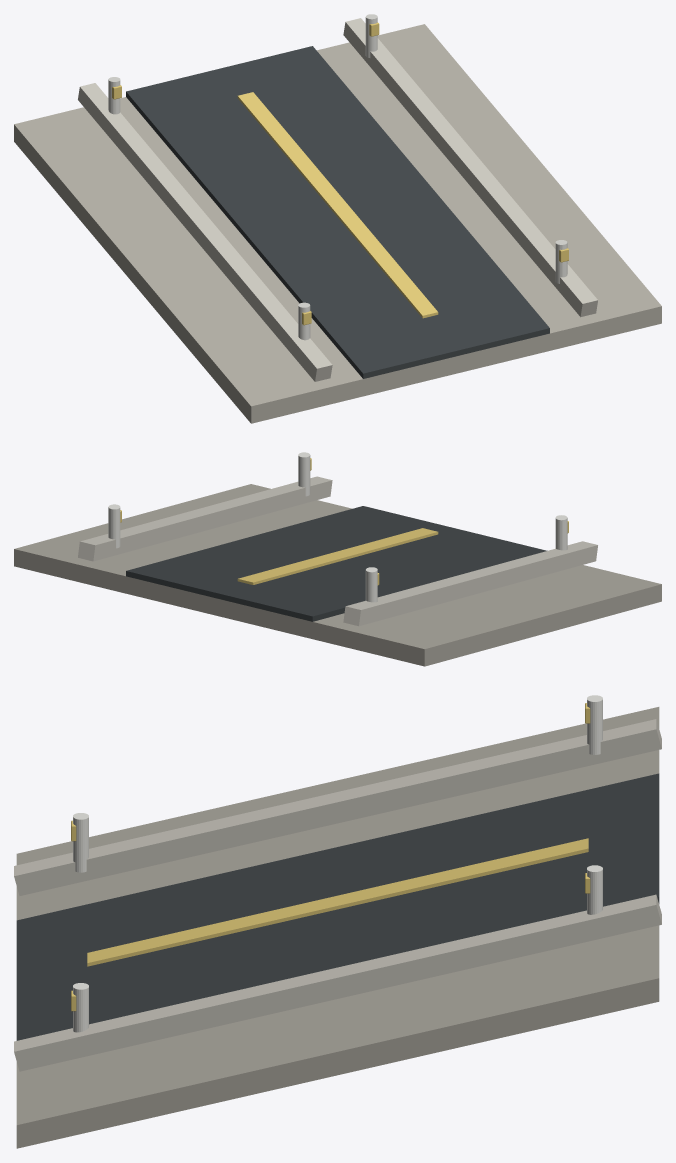
Rendered from ROAD_LOCAL_SLOPE_1x1_UP_050.glb.
3 renders of one model, top to bottom at view 1: azimuth 30°, elevation 25°; view 2: azimuth 150°, elevation 25°; view 3: azimuth 270°, elevation 25°, orthographic. The views are drawn at different scales.
Visible parts, largest first — view 1: ROAD_LOCAL_SLOPE_1x1_UP_050_Visual; view 2: ROAD_LOCAL_SLOPE_1x1_UP_050_Visual; view 3: ROAD_LOCAL_SLOPE_1x1_UP_050_Visual.
Part boxes in pixels (bbox=[...]): ROAD_LOCAL_SLOPE_1x1_UP_050_Visual: bbox=[14, 14, 661, 423]; ROAD_LOCAL_SLOPE_1x1_UP_050_Visual: bbox=[14, 452, 661, 666]; ROAD_LOCAL_SLOPE_1x1_UP_050_Visual: bbox=[14, 695, 661, 1148].
Size of what is drawn, in the model's own units: 1.98 by 0.78 by 2.
